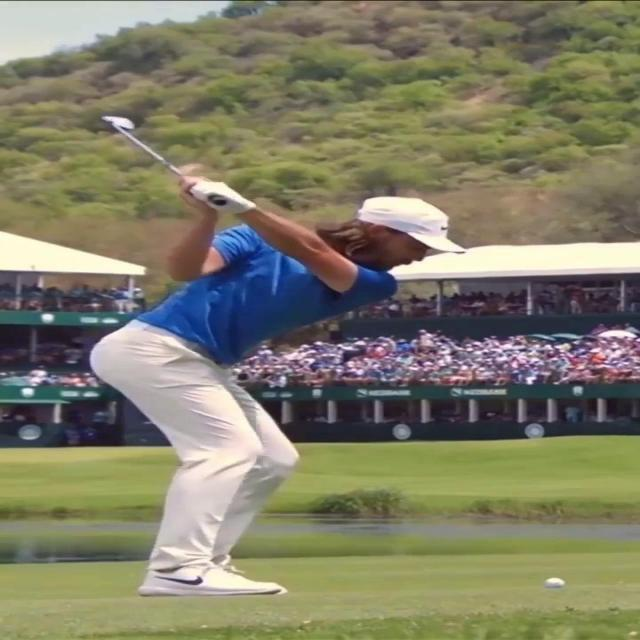ClubHead: (101, 116, 136, 130)
GolfBall: (545, 578, 565, 587)
